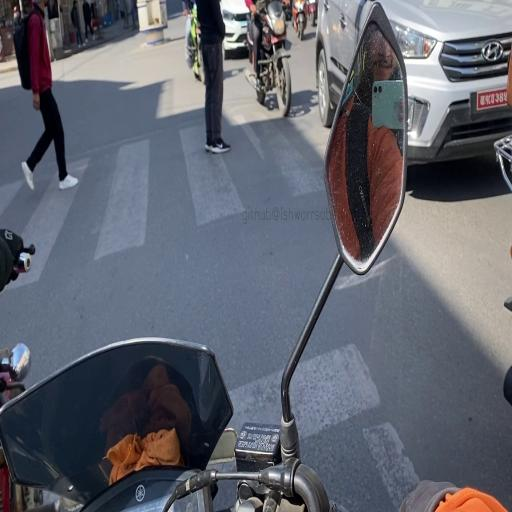license_plate: (477, 92, 509, 109), (477, 89, 507, 107)
